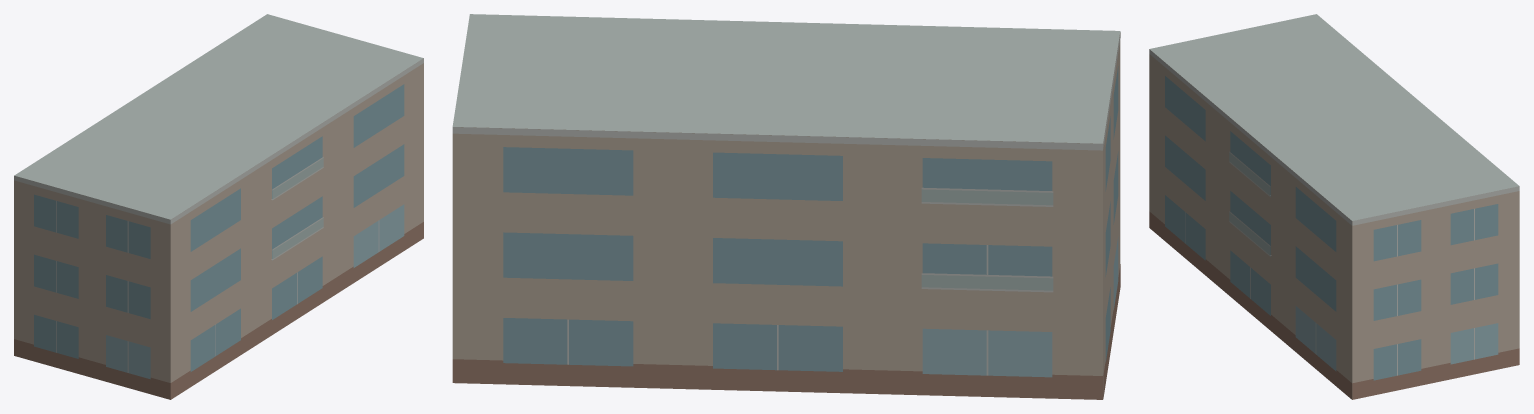
Rendered from survey-upis-33033197.glb.
3 views of the same model, side by side, from view 1: azimuth 30°, elevation 25°; view 2: azimuth 150°, elevation 25°; view 3: azimuth 270°, elevation 25° (orthographic). The views are drawn at different scales.
Parts seen in each view (by area): view 1: survey-upis-33033197.tmp; view 2: survey-upis-33033197.tmp; view 3: survey-upis-33033197.tmp.
Part boxes in pixels (<box>): survey-upis-33033197.tmp: <box>14,14,423,399</box>; survey-upis-33033197.tmp: <box>452,14,1120,399</box>; survey-upis-33033197.tmp: <box>1149,14,1519,399</box>.
Size of the model in its own units: 22.73 by 9.15 by 17.18.
